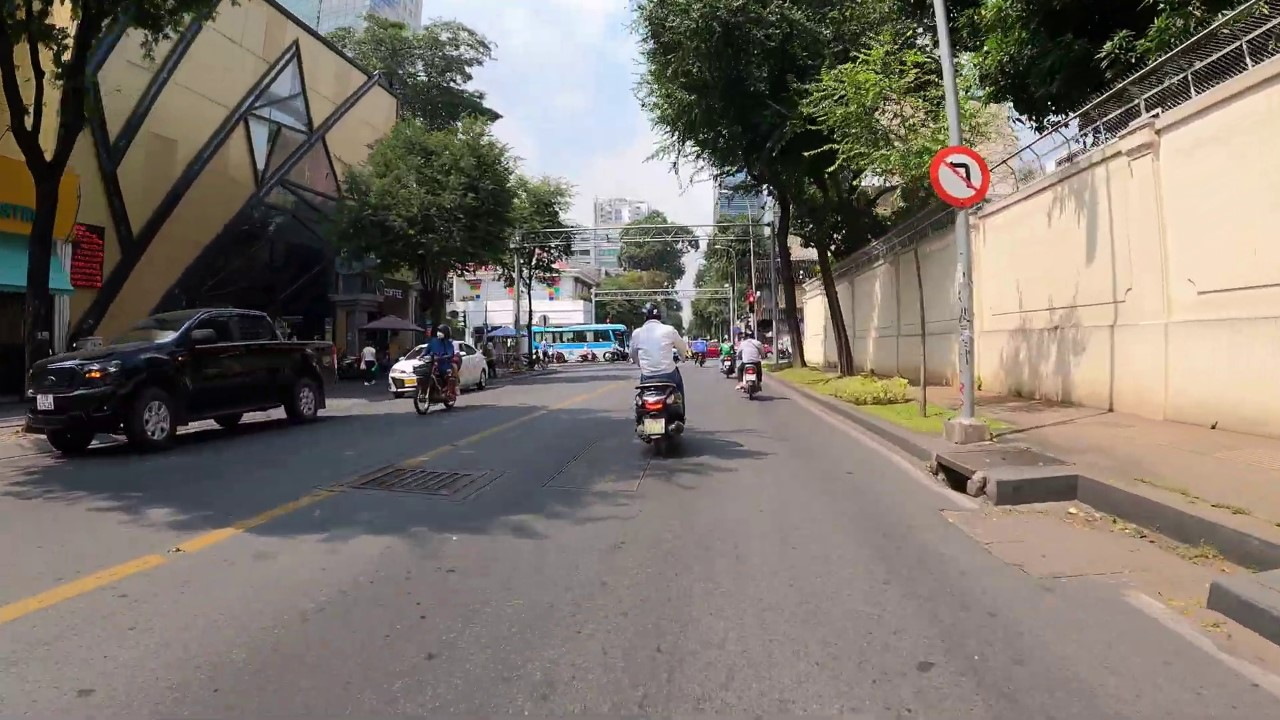cam_re_trai: (929, 145, 991, 208)
